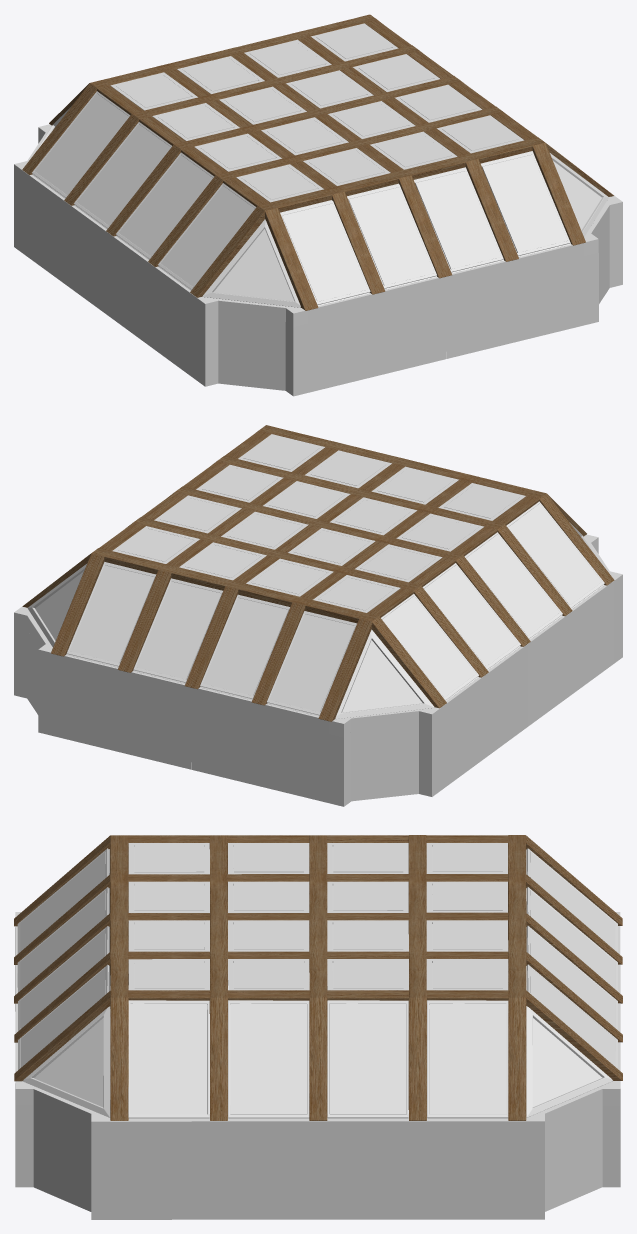
Rendered from room_with_windows_small.fbx.
The picture shows the model from 3 angles, top to bottom: view 1: azimuth 30°, elevation 25°; view 2: azimuth 150°, elevation 25°; view 3: azimuth 270°, elevation 25°; orthographic projection. The views are drawn at different scales.
Parts seen in each view (by area): view 1: walls, glas, glas.002, roof_structure2, roof_structure1, glas.001, windowframe2, Cube.040, window, window.004, Cube.041, Cube.037 (+2 smaller); view 2: walls, glas, glas.002, roof_structure2, roof_structure1, glas.001, windowframe2, Cube.038, window, window.004, Cube.039, Cube.023 (+1 smaller); view 3: walls, glas.001, glas, roof_structure2, roof_structure1, glas.002, windowframe2, window.004, Cube.023, Cube.037, window, Cube.036 (+1 smaller).
Boxes of the visible parts, <box> form: walls: <box>14,124,622,396</box>; glas: <box>116,25,518,199</box>; glas.002: <box>282,155,567,301</box>; roof_structure2: <box>22,14,613,297</box>; roof_structure1: <box>49,14,585,310</box>; glas.001: <box>35,93,254,286</box>; windowframe2: <box>110,23,524,202</box>; Cube.040: <box>214,229,294,301</box>; window: <box>280,151,570,304</box>; window.004: <box>32,91,256,289</box>; Cube.041: <box>202,219,300,307</box>; Cube.037: <box>553,161,601,229</box>; walls: <box>14,534,622,806</box>; glas: <box>118,436,519,610</box>; glas.002: <box>69,565,355,712</box>; roof_structure2: <box>22,425,614,708</box>; roof_structure1: <box>51,430,586,721</box>; glas.001: <box>382,504,601,697</box>; windowframe2: <box>112,434,525,612</box>; Cube.038: <box>342,640,422,712</box>; window: <box>66,562,356,715</box>; window.004: <box>381,501,604,700</box>; Cube.039: <box>335,629,434,719</box>; Cube.023: <box>35,571,83,640</box>; walls: <box>15,912,620,1219</box>; glas.001: <box>130,1003,506,1114</box>; glas: <box>134,844,502,988</box>; roof_structure2: <box>110,835,526,1120</box>; roof_structure1: <box>14,835,622,1081</box>; glas.002: <box>20,851,615,1067</box>; windowframe2: <box>128,843,508,990</box>; window.004: <box>128,1000,508,1118</box>; Cube.023: <box>532,1018,602,1107</box>; Cube.037: <box>34,1018,103,1107</box>; window: <box>17,848,617,1069</box>; Cube.036: <box>22,1006,110,1117</box>.
Bounding box in the file's own units: 1268 × 444 × 1347.
